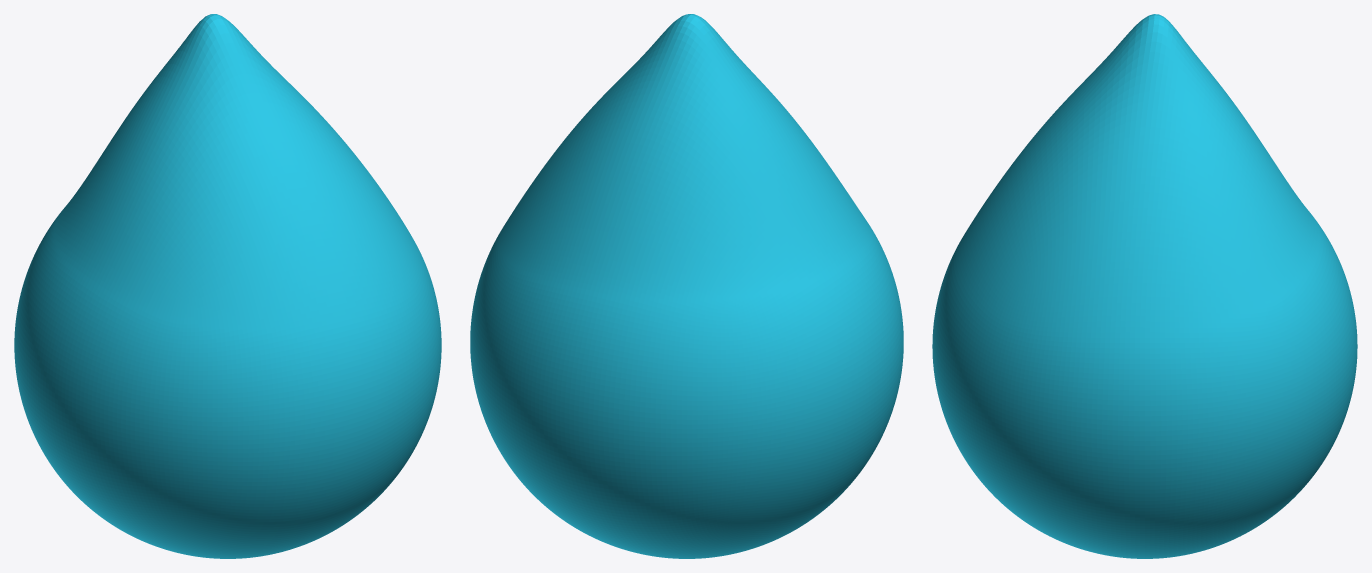
File: Raindrop.fbx
The picture shows the model from 3 angles, left to right: view 1: azimuth 30°, elevation 25°; view 2: azimuth 150°, elevation 25°; view 3: azimuth 270°, elevation 25°; orthographic projection. The views are drawn at different scales.
Parts seen in each view (by area): view 1: Raindrop; view 2: Raindrop; view 3: Raindrop.
Boxes of the visible parts, left/top/right/bottom form: Raindrop: left=14, top=14, right=441, bottom=558; Raindrop: left=470, top=14, right=903, bottom=558; Raindrop: left=932, top=14, right=1357, bottom=558.
Bounding box in the file's own units: 25.69 × 25.69 × 34.64.
